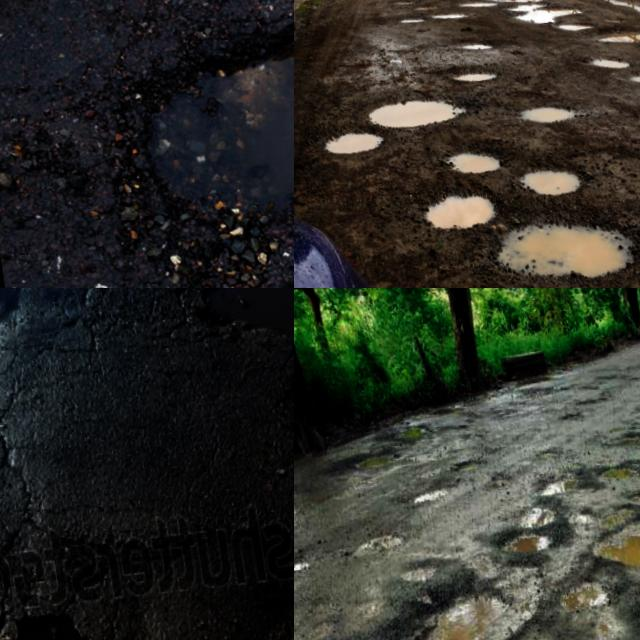Potholes: (63, 0, 294, 288), (379, 111, 576, 253), (307, 57, 483, 199), (466, 162, 638, 288), (324, 411, 462, 531), (175, 288, 294, 424), (0, 288, 132, 408), (539, 480, 640, 633), (389, 549, 549, 640), (492, 434, 611, 550), (515, 47, 613, 160), (563, 0, 640, 122), (402, 43, 518, 118), (477, 0, 592, 60), (406, 453, 491, 523), (377, 0, 497, 39), (294, 616, 393, 640)
